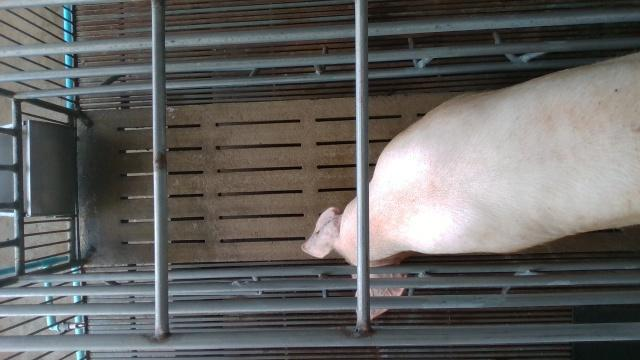sow-stand: (301, 49, 640, 321)
